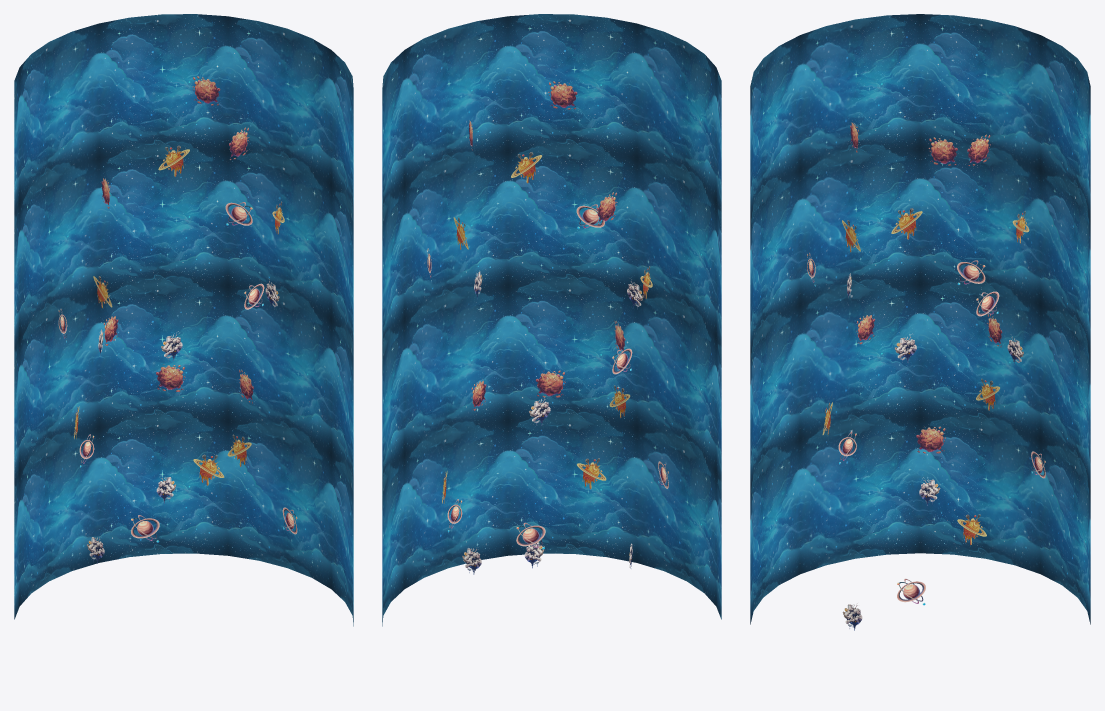
File: sky.glb
3 renders of one model, left to right at view 1: azimuth 30°, elevation 25°; view 2: azimuth 150°, elevation 25°; view 3: azimuth 270°, elevation 25°, orthographic.
Visible parts, largest first — view 1: background, Plane.011, Plane.023; view 2: background, Plane.007, Plane.019; view 3: background, Plane.003, Plane.015.
Boxes of the visible parts, x1=… form: background: x1=14, y1=14, x2=353, y2=626; Plane.011: x1=156, y1=364, x2=185, y2=391; Plane.023: x1=192, y1=76, x2=220, y2=105; background: x1=382, y1=14, x2=721, y2=626; Plane.007: x1=535, y1=370, x2=565, y2=397; Plane.019: x1=548, y1=81, x2=577, y2=109; background: x1=750, y1=14, x2=1090, y2=624; Plane.003: x1=916, y1=426, x2=945, y2=453; Plane.015: x1=928, y1=137, x2=957, y2=165.
Bounding box in the file's own units: 264 × 461 × 264.
2 materials, 2 textured.
